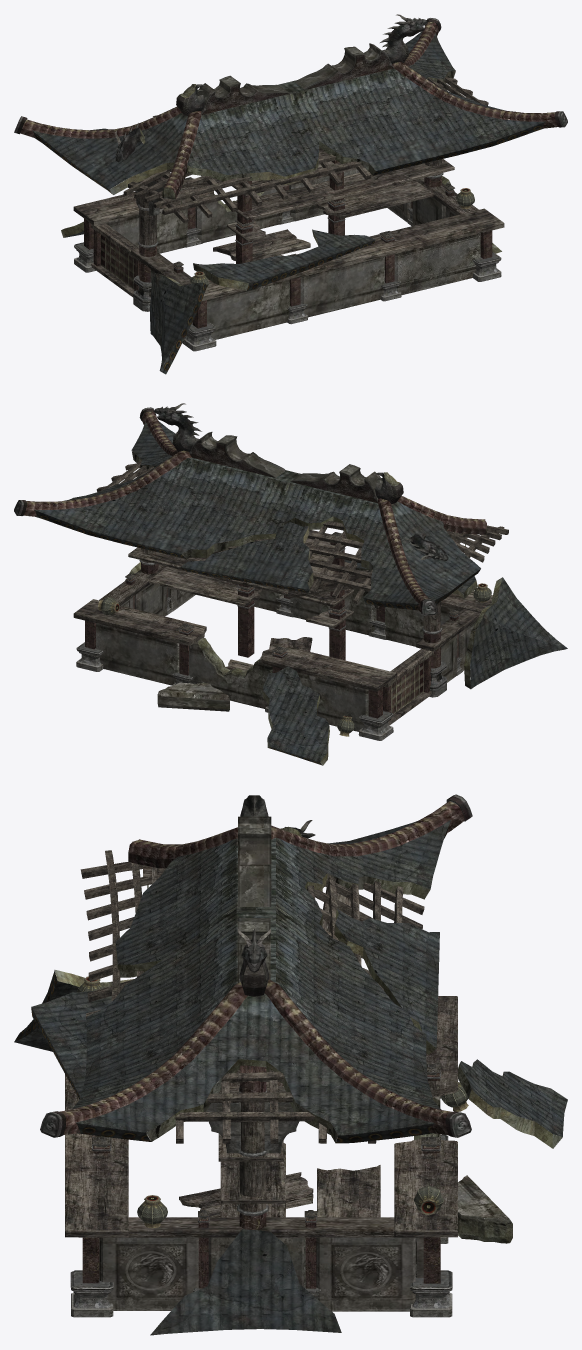
File: TW2_9_ADDONS_12_6-transformed.glb
3 renders of one model, top to bottom at view 1: azimuth 30°, elevation 25°; view 2: azimuth 150°, elevation 25°; view 3: azimuth 270°, elevation 25°, orthographic. The views are drawn at different scales.
Visible parts, largest first — view 1: default; view 2: default; view 3: default.
Part boxes in pixels (<box>): default: <box>14,14,567,374</box>; default: <box>14,403,567,765</box>; default: <box>14,794,567,1335</box>.
Bounding box in the file's own units: 8.25 × 4.32 × 5.9.
Materials: 7 (7 with a texture image).
